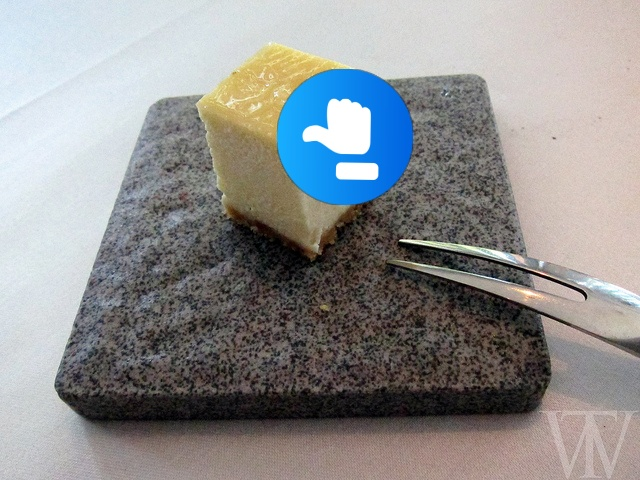like: (277, 69, 413, 205)
